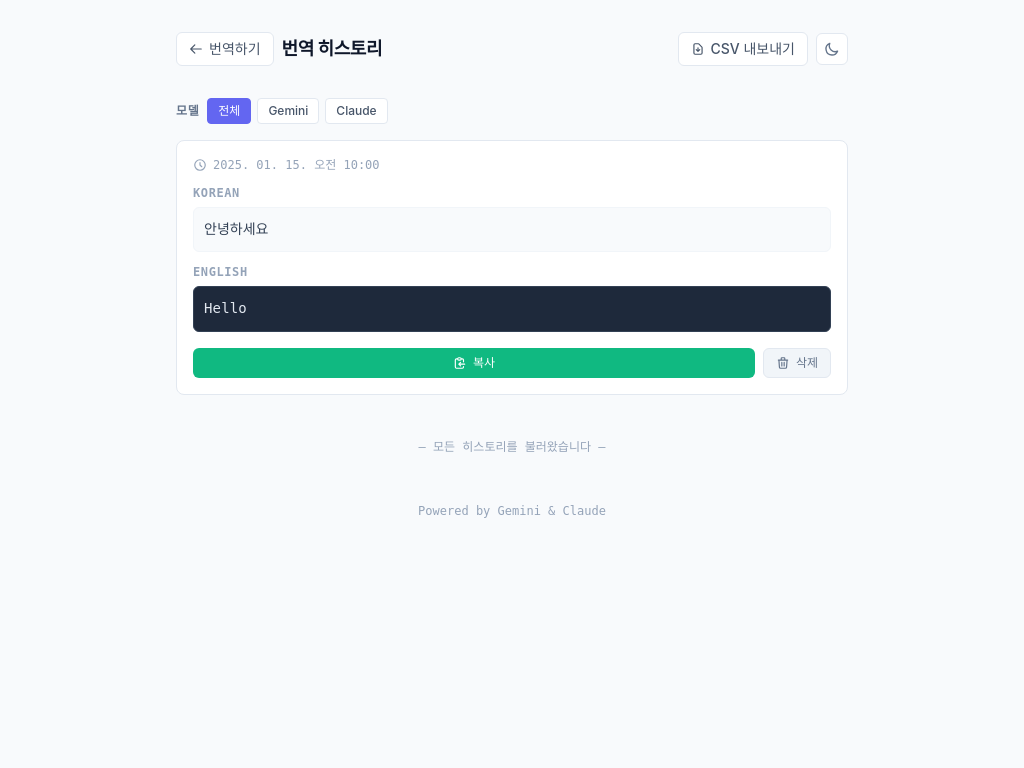
it: History Page › shows error toast when delete fails
The image size is (1024, 768).
Click the button "삭제" at point(797, 362), box [763,348,831,378]
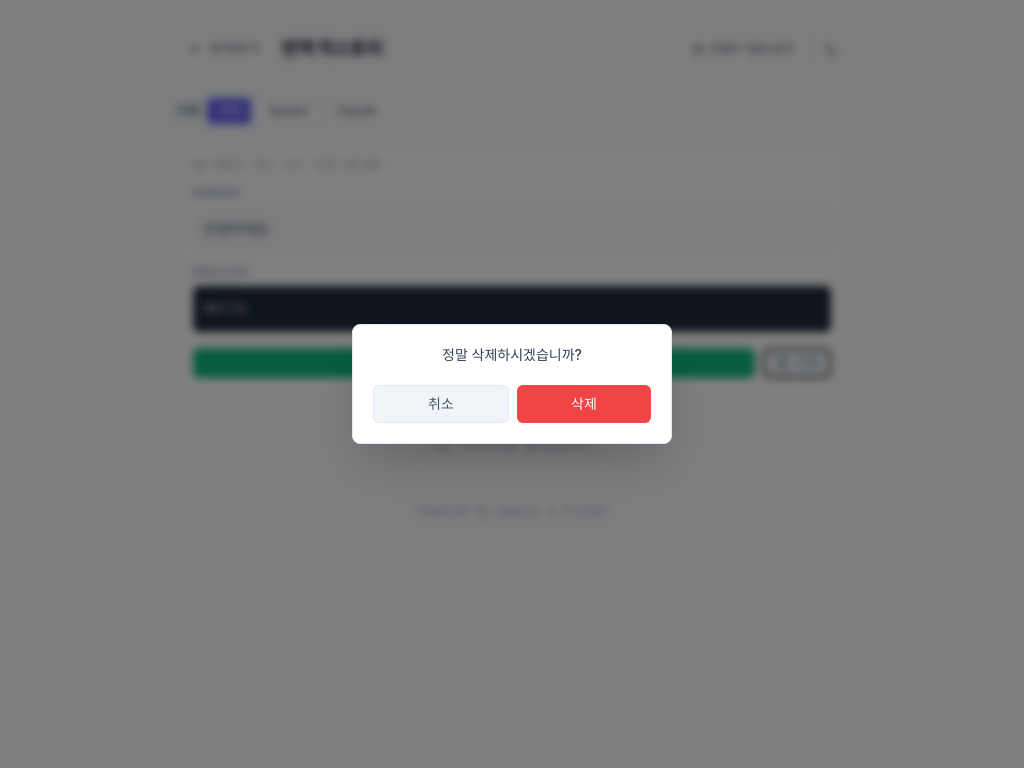
Click the button "삭제" at point(584, 404), box [517,385,651,423]
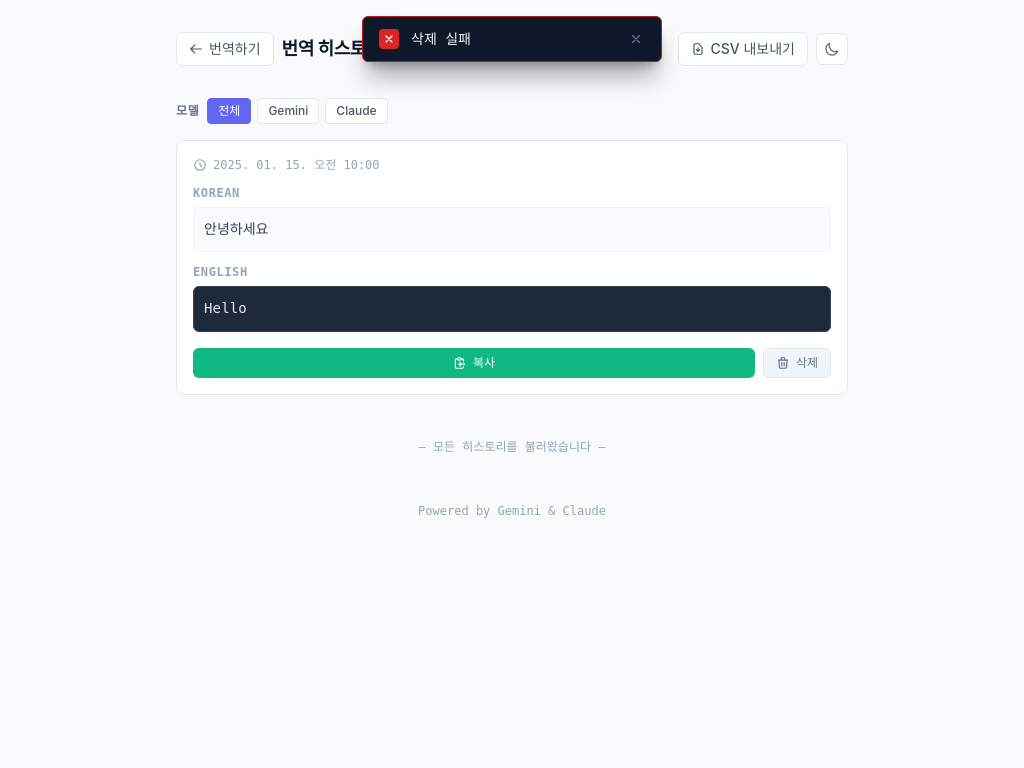
Check: the text "삭제 실패" is shown, box [411,31,471,47]
